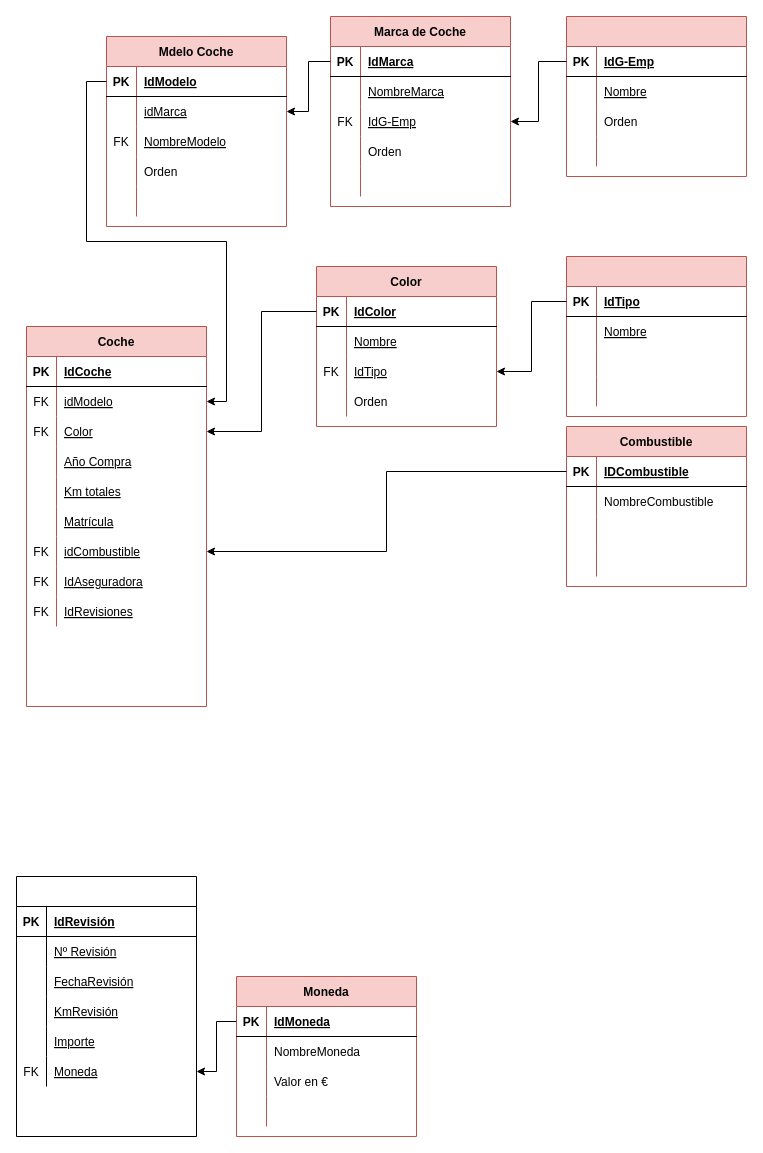
Image size: 763x1153. Some labels were removed from this diagram. The shapes that lost their labels are listed below. From the top down, each one's box as (x1, y1, x2, y2) in pixels, then its label:
(566, 16, 746, 176): Grupo Empresarial
(566, 256, 746, 416): TipoColor
(16, 876, 196, 1136): Revisiones
